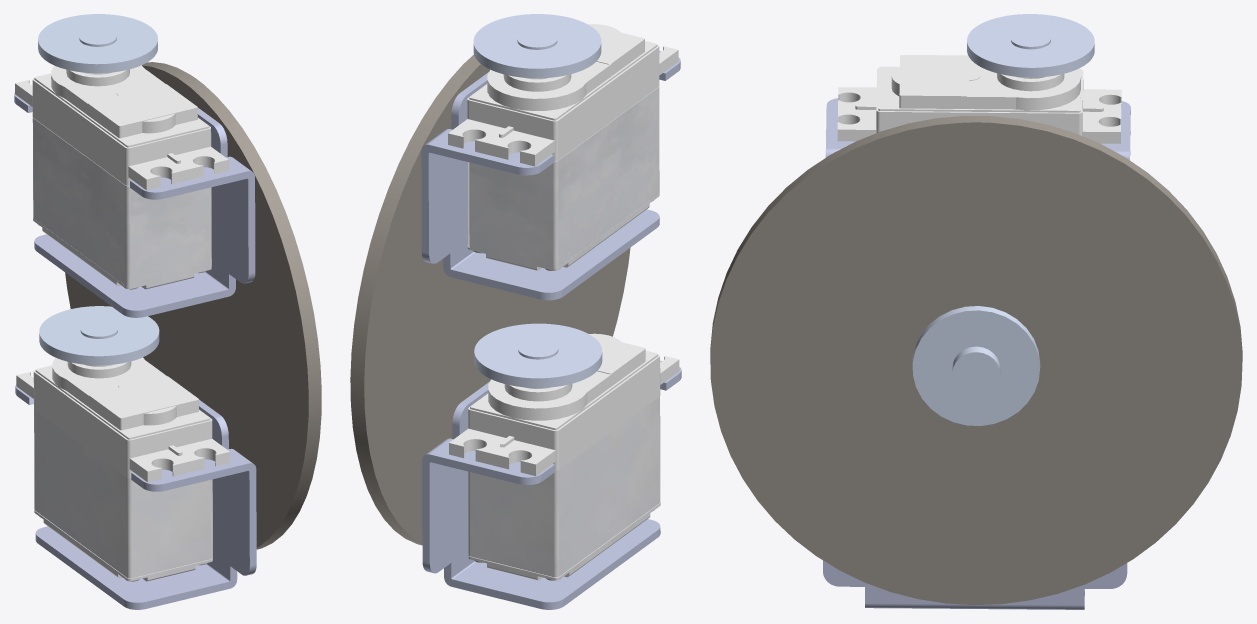
File: r_shoulder_link.dae
The picture shows the model from 3 angles, left to right: view 1: azimuth 30°, elevation 25°; view 2: azimuth 150°, elevation 25°; view 3: azimuth 270°, elevation 25°; orthographic projection. The views are drawn at different scales.
Parts seen in each view (by area): view 1: Actor0; view 2: Actor0; view 3: Actor0.
Part boxes in pixels (x1=…): Actor0: x1=14, y1=14, x2=321, y2=609; Actor0: x1=350, y1=14, x2=681, y2=609; Actor0: x1=710, y1=14, x2=1242, y2=609.
Size of the model in its own units: 0.0338 by 0.1127 by 0.1003.
Materials: 7 (2 with a texture image).
